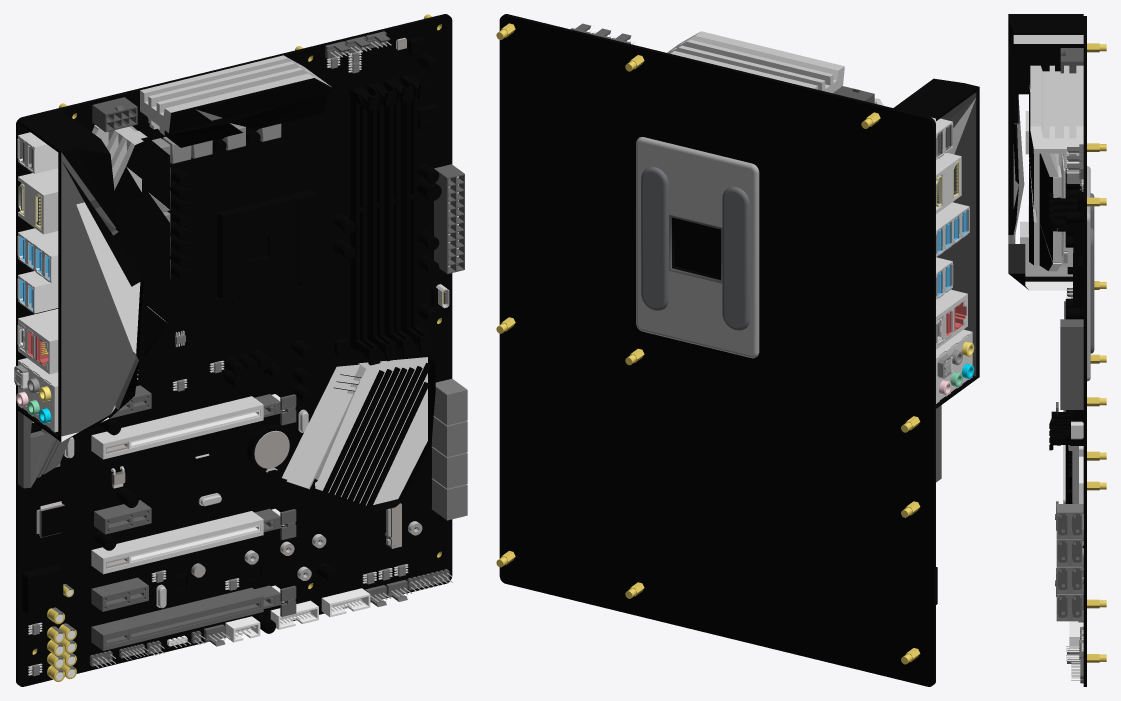
Rendered from mainboard_cs4773.glb.
3 views of the same model, side by side, from view 1: azimuth 30°, elevation 25°; view 2: azimuth 150°, elevation 25°; view 3: azimuth 270°, elevation 25° (orthographic). The views are drawn at different scales.
Visible parts, largest first — view 1: Mesh219_M_1495537755376_0, Mesh28_M_0136_Charcoal_0, Mesh179_FrontColor_0, Mesh488_M_1495537755376_0, Mesh179_M_1495537755376_0, Mesh33_M_1495537755376_0, Mesh20_M_1495537755376_0, Mesh20_M_0132_LightGray_0, Mesh480_M_0136_Charcoal_0, Mesh497_Color_M08_0, Mesh492_Color_M08_0, Mesh507_Color_M08_0 (+27 smaller); view 2: Mesh219_Color_M08_0, Mesh489_Color_M05_0, Mesh489_AX370_Gaming_5_Rev10_0_0, Mesh20_M_0132_LightGray_0, Mesh28_M_0136_Charcoal_0, Mesh28_Color_M08_0, Mesh270_M_0131_Silver_0, Mesh235_M_0131_Silver_0, Mesh20_FrontColor_0, Mesh203_M_0131_Silver_0; view 3: Mesh28_Color_M08_0, Mesh20_M_0132_LightGray_0, Mesh219_Color_M08_0, Mesh520_M_0136_Charcoal_0, Mesh33_M_1495537755376_0, Mesh33_M_0132_LightGray_0, Mesh507_Color_M08_0, Mesh28_FrontColor_0, Mesh489_Color_M05_0, Mesh489_AX370_Gaming_5_Rev10_0_0, Mesh270_M_0131_Silver_0, Mesh179_FrontColor_0 (+32 smaller).
Boxes of the visible parts, x1,y1,x2,y2 form: Mesh219_M_1495537755376_0: (18, 15, 452, 686); Mesh28_M_0136_Charcoal_0: (61, 152, 138, 436); Mesh179_FrontColor_0: (282, 357, 427, 505); Mesh488_M_1495537755376_0: (210, 190, 316, 304); Mesh179_M_1495537755376_0: (282, 357, 435, 511); Mesh33_M_1495537755376_0: (113, 137, 169, 363); Mesh20_M_1495537755376_0: (164, 78, 332, 147); Mesh20_M_0132_LightGray_0: (140, 55, 331, 145); Mesh480_M_0136_Charcoal_0: (91, 587, 263, 650); Mesh497_Color_M08_0: (350, 86, 375, 351); Mesh492_Color_M08_0: (384, 78, 409, 343); Mesh507_Color_M08_0: (401, 74, 425, 338); Mesh219_Color_M08_0: (499, 14, 935, 686); Mesh489_Color_M05_0: (636, 137, 759, 358); Mesh489_AX370_Gaming_5_Rev10_0_0: (641, 166, 749, 330); Mesh20_M_0132_LightGray_0: (667, 31, 844, 93); Mesh28_M_0136_Charcoal_0: (936, 92, 976, 376); Mesh28_Color_M08_0: (893, 78, 979, 408); Mesh270_M_0131_Silver_0: (936, 329, 972, 403); Mesh235_M_0131_Silver_0: (936, 153, 961, 213); Mesh20_FrontColor_0: (683, 36, 838, 80); Mesh203_M_0131_Silver_0: (936, 289, 967, 349); Mesh28_Color_M08_0: (1008, 14, 1083, 285); Mesh20_M_0132_LightGray_0: (1030, 65, 1083, 176); Mesh219_Color_M08_0: (1083, 16, 1086, 686); Mesh520_M_0136_Charcoal_0: (1060, 319, 1083, 409); Mesh33_M_1495537755376_0: (1029, 75, 1052, 270); Mesh33_M_0132_LightGray_0: (1029, 71, 1073, 271); Mesh507_Color_M08_0: (1057, 222, 1083, 445); Mesh28_FrontColor_0: (1013, 124, 1072, 290); Mesh489_Color_M05_0: (1087, 166, 1090, 381); Mesh489_AX370_Gaming_5_Rev10_0_0: (1090, 193, 1094, 353); Mesh270_M_0131_Silver_0: (1020, 221, 1072, 276); Mesh179_FrontColor_0: (1068, 445, 1083, 545).
Size of the model in its own units: 0.00248 by 0.00305 by 0.000553.
